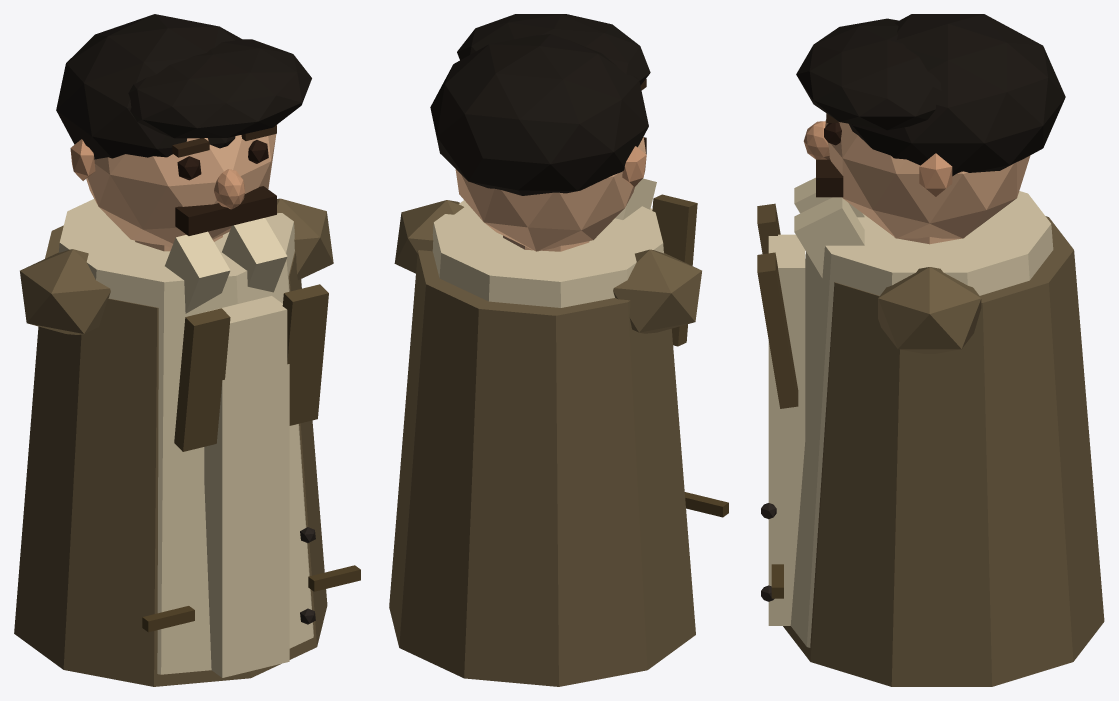
Rendered from insan_e2k_govde.glb.
3 views of the same model, side by side, from view 1: azimuth 30°, elevation 25°; view 2: azimuth 150°, elevation 25°; view 3: azimuth 270°, elevation 25° (orthographic). The views are drawn at different scales.
Visible parts, largest first — view 1: Cone; view 2: Cone; view 3: Cone.
Part boxes in pixels (bbox=[...]): Cone: bbox=[14, 14, 360, 686]; Cone: bbox=[389, 14, 728, 686]; Cone: bbox=[757, 14, 1104, 686].
Bounding box in the file's own units: 0.1158 × 0.2171 × 0.1142.
